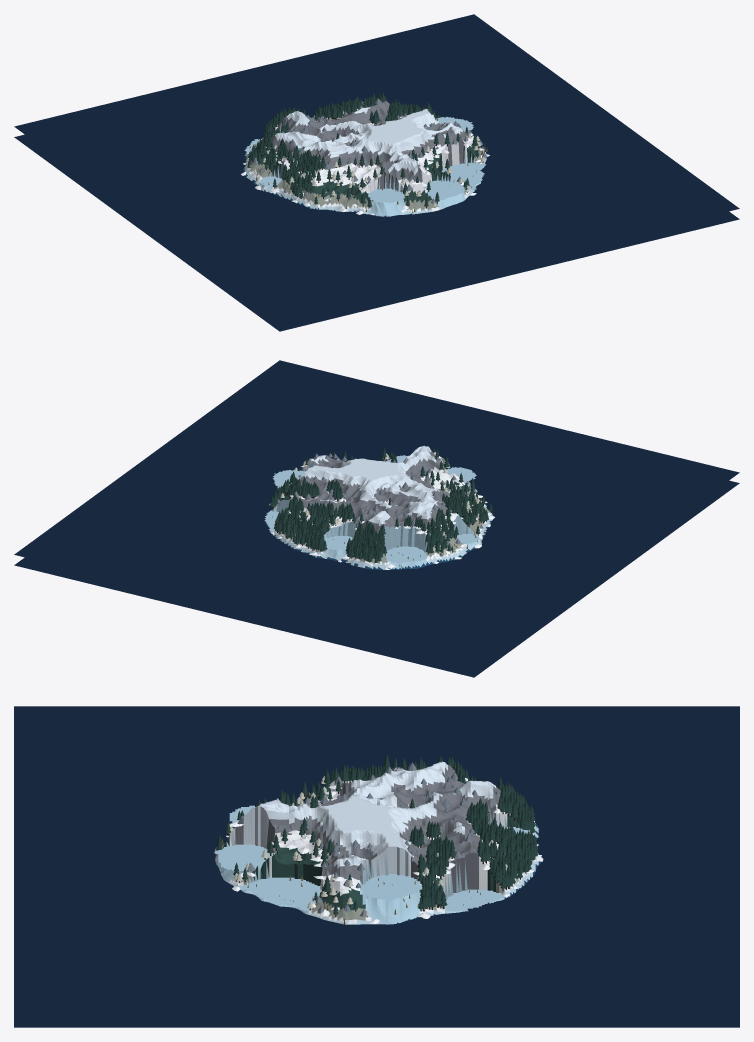
Rendered from snow_north_taiga_scene.obj.
The picture shows the model from 3 angles, top to bottom: view 1: azimuth 30°, elevation 25°; view 2: azimuth 150°, elevation 25°; view 3: azimuth 270°, elevation 25°; orthographic projection. The views are drawn at different scales.
Parts seen in each view (by area): view 1: Ocean_Surface, Island_Terrain, Scatter_trees_dense, Inland_Lake_Water, Scatter_trees_sparse, Scatter_ice_boulders, Scatter_snow_drifts, Scatter_trees_other; view 2: Ocean_Surface, Island_Terrain, Scatter_trees_dense, Inland_Lake_Water, Scatter_trees_sparse, Scatter_ice_boulders, Scatter_snow_drifts; view 3: Ocean_Surface, Island_Terrain, Scatter_trees_dense, Inland_Lake_Water, Scatter_ice_boulders, Scatter_trees_sparse, Scatter_snow_drifts, Scatter_trees_other.
Part boxes in pixels (bbox=[...]): Ocean_Surface: bbox=[14, 14, 739, 320]; Island_Terrain: bbox=[14, 101, 739, 331]; Scatter_trees_dense: bbox=[248, 92, 477, 205]; Inland_Lake_Water: bbox=[244, 116, 486, 202]; Scatter_trees_sparse: bbox=[247, 96, 486, 208]; Scatter_ice_boulders: bbox=[252, 98, 487, 203]; Scatter_snow_drifts: bbox=[241, 109, 489, 215]; Scatter_trees_other: bbox=[245, 102, 485, 207]; Ocean_Surface: bbox=[14, 360, 739, 666]; Island_Terrain: bbox=[14, 445, 739, 677]; Scatter_trees_dense: bbox=[269, 447, 492, 562]; Inland_Lake_Water: bbox=[264, 455, 479, 563]; Scatter_trees_sparse: bbox=[275, 448, 485, 562]; Scatter_ice_boulders: bbox=[277, 453, 483, 556]; Scatter_snow_drifts: bbox=[269, 452, 494, 569]; Ocean_Surface: bbox=[14, 706, 739, 1013]; Island_Terrain: bbox=[14, 761, 739, 1027]; Scatter_trees_dense: bbox=[225, 754, 538, 911]; Inland_Lake_Water: bbox=[215, 805, 535, 911]; Scatter_ice_boulders: bbox=[216, 762, 524, 917]; Scatter_trees_sparse: bbox=[216, 757, 523, 916]; Scatter_snow_drifts: bbox=[226, 778, 543, 924]; Scatter_trees_other: bbox=[214, 776, 533, 917].
Size of the model in its own units: 1200 by 124 by 1200.
